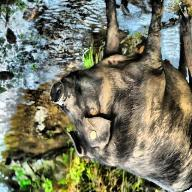boar: (50, 0, 192, 192)
